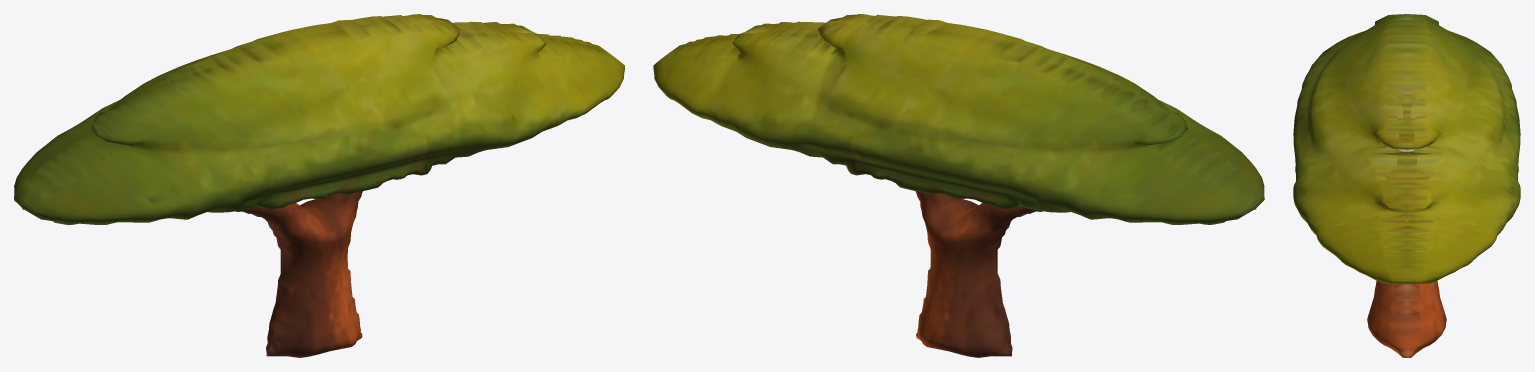
The model's file is 02_acacia_trees_r02_c01.glb.
The picture shows the model from 3 angles, left to right: view 1: azimuth 30°, elevation 25°; view 2: azimuth 150°, elevation 25°; view 3: azimuth 270°, elevation 25°; orthographic projection. The views are drawn at different scales.
Parts seen in each view (by area): view 1: 02_acacia_trees_r02_c01; view 2: 02_acacia_trees_r02_c01; view 3: 02_acacia_trees_r02_c01.
Part boxes in pixels (<box>): 02_acacia_trees_r02_c01: <box>14,14,624,357</box>; 02_acacia_trees_r02_c01: <box>653,14,1264,357</box>; 02_acacia_trees_r02_c01: <box>1293,14,1520,357</box>.
Size of the model in its own units: 3.01 by 1.51 by 1.15.
1 material, 1 textured.
